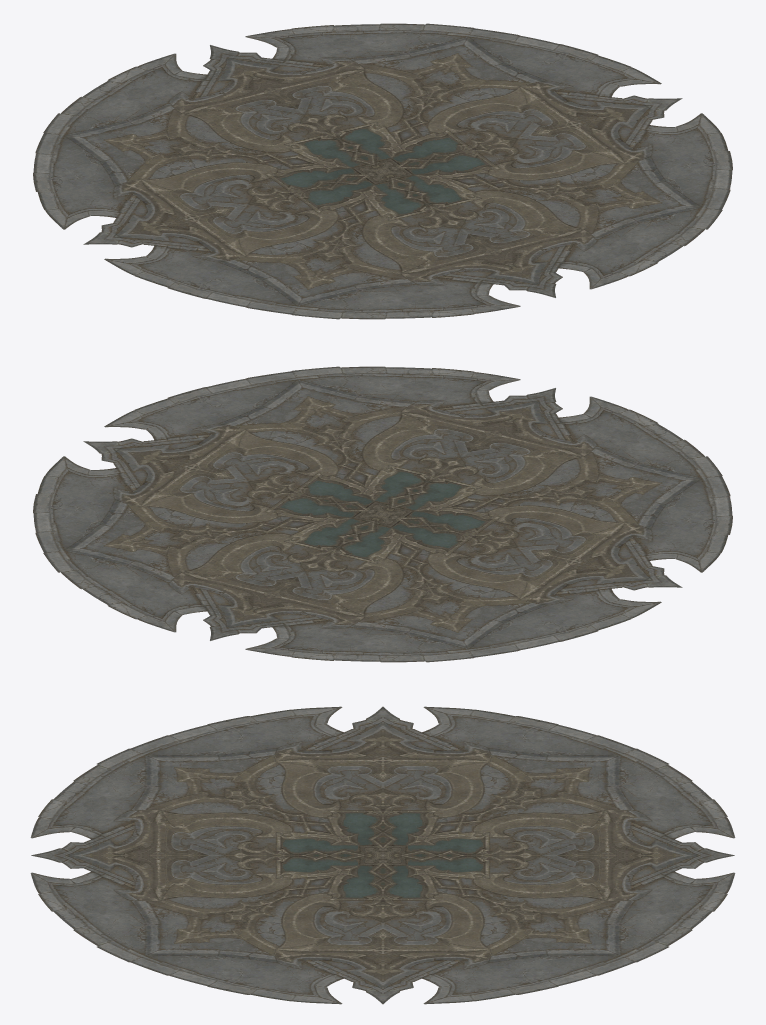
The model's file is bg_rad_kamen_floor11_sm.obj.
3 renders of one model, top to bottom at view 1: azimuth 30°, elevation 25°; view 2: azimuth 150°, elevation 25°; view 3: azimuth 270°, elevation 25°, orthographic.
Parts seen in each view (by area): view 1: bg_rad_kamen_floor11_sm_0; view 2: bg_rad_kamen_floor11_sm_0; view 3: bg_rad_kamen_floor11_sm_0.
Part boxes in pixels (x1,y1,x2,y2): bg_rad_kamen_floor11_sm_0: [33, 23, 732, 319]; bg_rad_kamen_floor11_sm_0: [33, 366, 732, 662]; bg_rad_kamen_floor11_sm_0: [30, 706, 735, 1004].
Bounding box in the file's own units: 5.98 × 0 × 6.01.
1 material, 1 textured.
